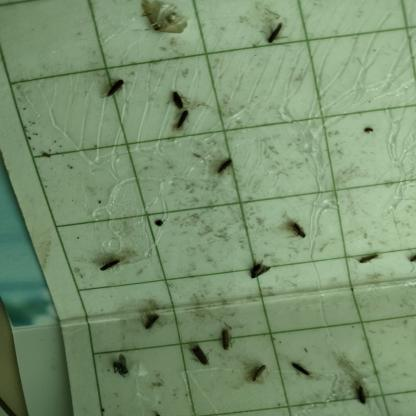prays_oleae: (347, 238, 382, 282), (144, 5, 182, 40), (247, 354, 274, 401), (184, 337, 212, 381), (260, 15, 290, 56), (99, 71, 126, 110), (289, 351, 315, 391), (250, 246, 272, 292), (94, 250, 126, 281), (351, 367, 371, 415), (288, 211, 309, 252), (168, 108, 196, 138), (138, 303, 160, 341), (107, 350, 132, 382), (218, 320, 236, 358), (214, 155, 238, 182), (166, 88, 186, 112), (404, 247, 414, 278)
